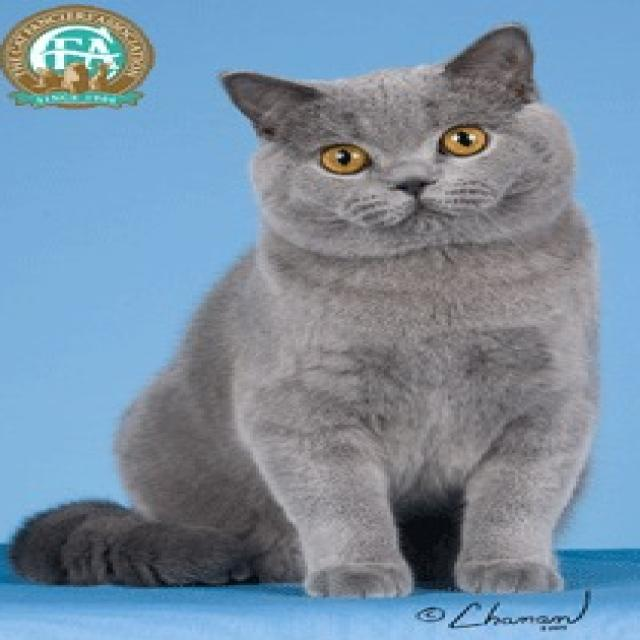British Shorthair: (6, 21, 609, 601)
